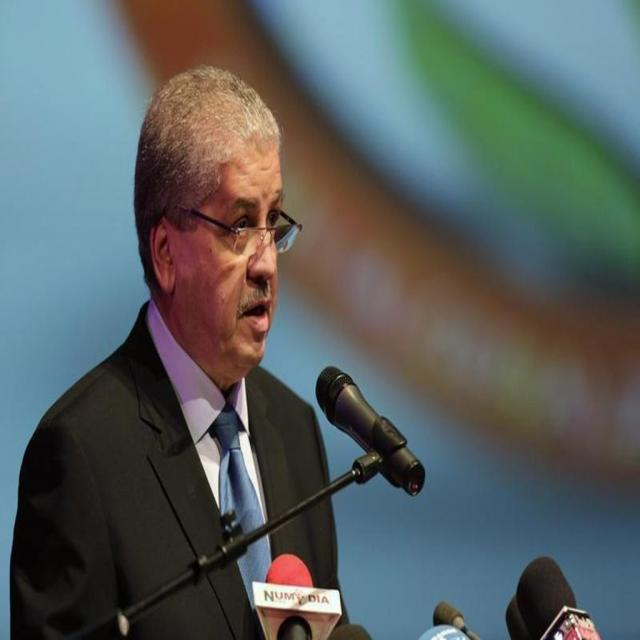nomask: (173, 132, 285, 370)
